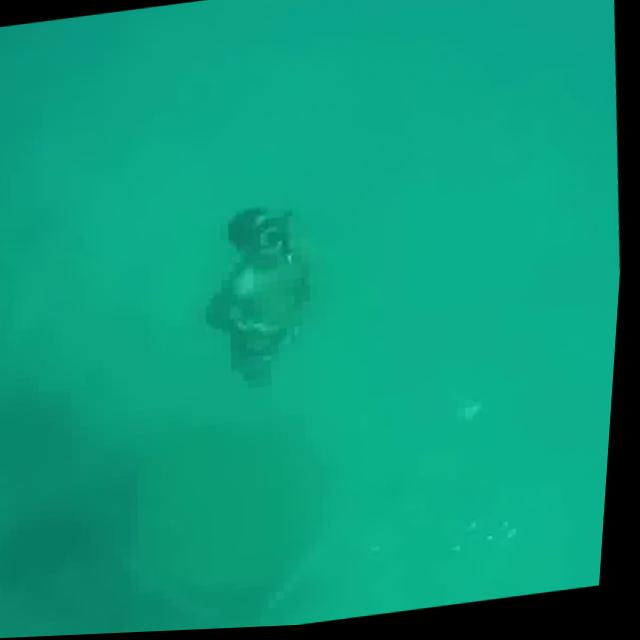human: (194, 190, 342, 402)
